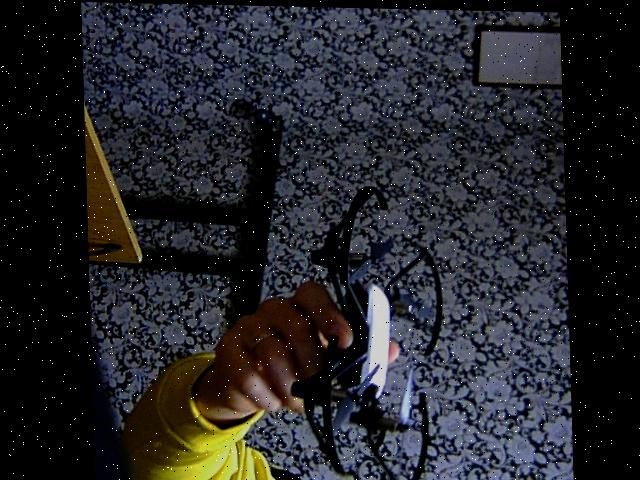drone: (278, 181, 461, 480)
